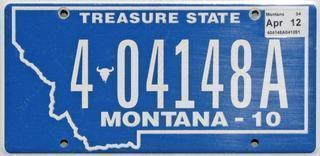placa de veiculo: (6, 4, 313, 150)
